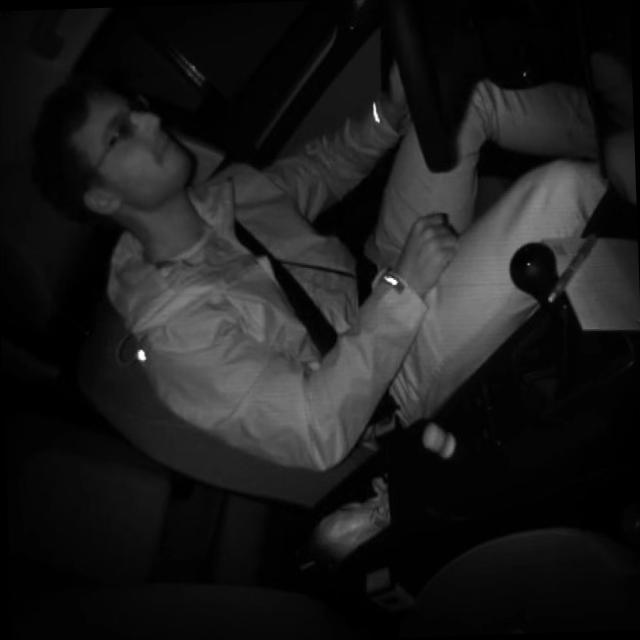pen: (543, 226, 602, 304)
